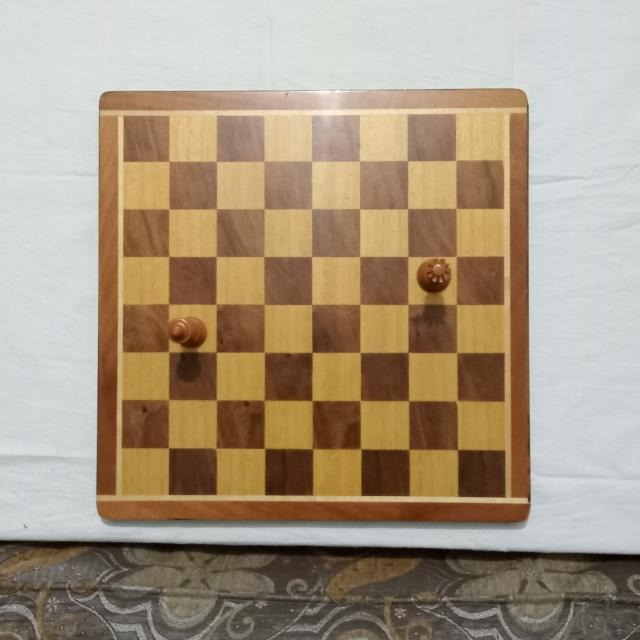white-king: (168, 315, 210, 351)
white-queen: (416, 256, 456, 297)
